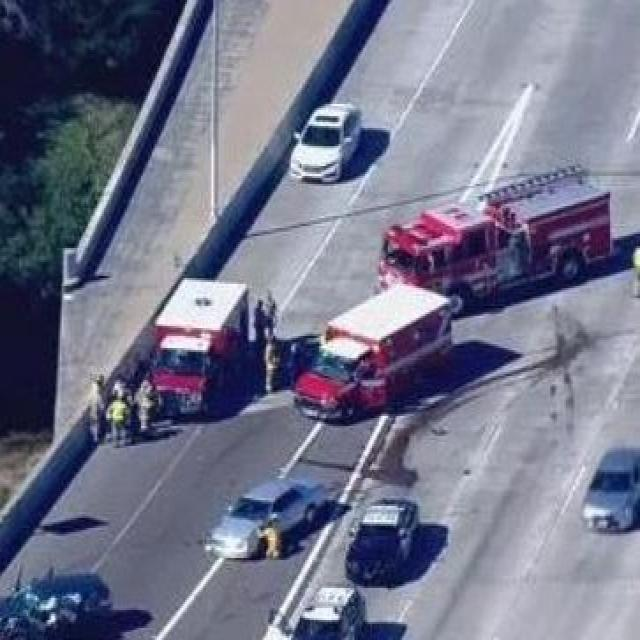traffic_incident: (0, 548, 116, 638)
